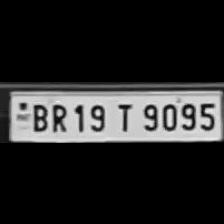0: (159, 98, 177, 130)
1: (68, 100, 86, 132)
5: (196, 98, 216, 130)
9: (83, 100, 108, 132), (137, 99, 159, 131), (178, 98, 196, 130)
B: (28, 100, 48, 132)
R: (48, 100, 70, 132)
T: (111, 100, 135, 132)
